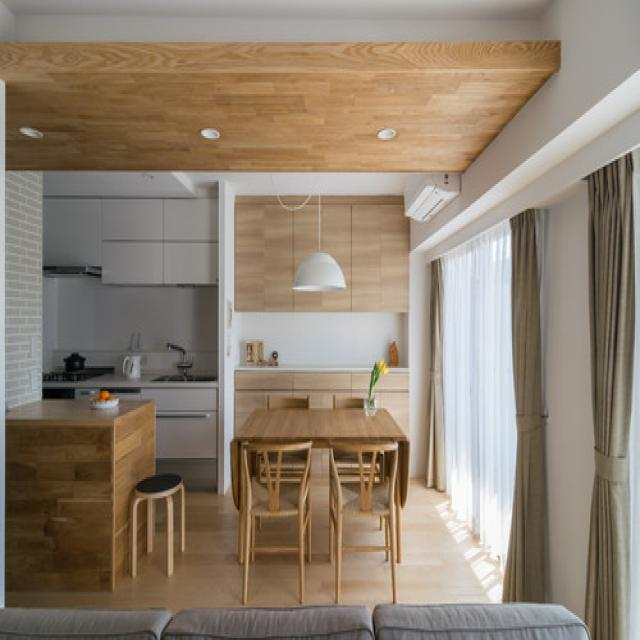natural chair: (327, 445, 397, 605), (249, 448, 309, 606)
natural desk: (232, 408, 412, 565)
